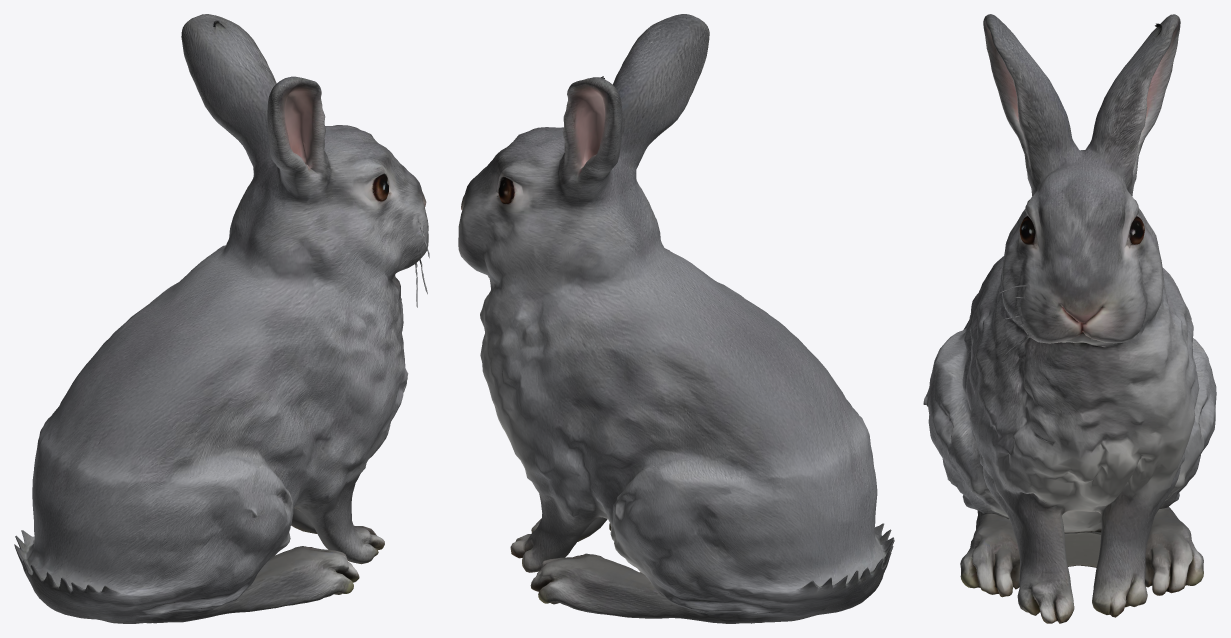
Rendered from rabbit-sitting.glb.
3 renders of one model, left to right at view 1: azimuth 30°, elevation 25°; view 2: azimuth 150°, elevation 25°; view 3: azimuth 270°, elevation 25°, orthographic. The views are drawn at different scales.
Parts seen in each view (by area): view 1: tripo_node_3680fa7f-a2f6-48aa-8566-a055cf47df10; view 2: tripo_node_3680fa7f-a2f6-48aa-8566-a055cf47df10; view 3: tripo_node_3680fa7f-a2f6-48aa-8566-a055cf47df10.
Part boxes in pixels (bbox=[...]): tripo_node_3680fa7f-a2f6-48aa-8566-a055cf47df10: bbox=[14, 14, 429, 623]; tripo_node_3680fa7f-a2f6-48aa-8566-a055cf47df10: bbox=[458, 14, 894, 623]; tripo_node_3680fa7f-a2f6-48aa-8566-a055cf47df10: bbox=[923, 14, 1216, 623].
Bounding box in the file's own units: 0.2851 × 0.35 × 0.1698.
1 material, 1 textured.
